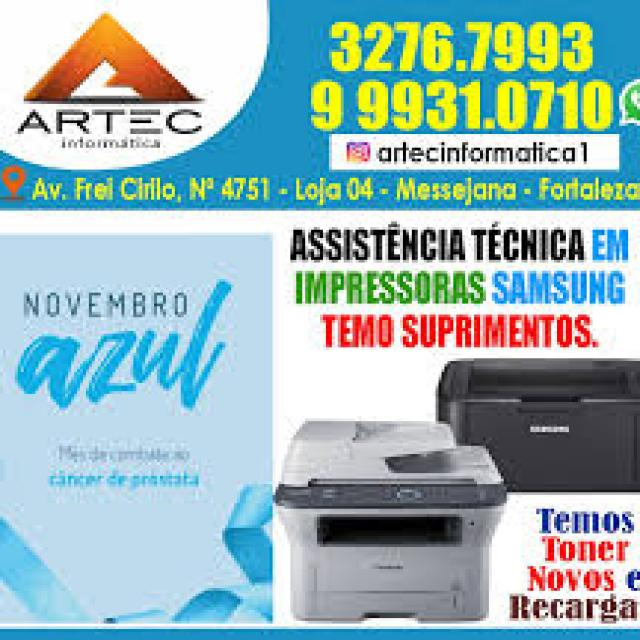printer: (274, 414, 506, 625), (434, 354, 640, 492)
